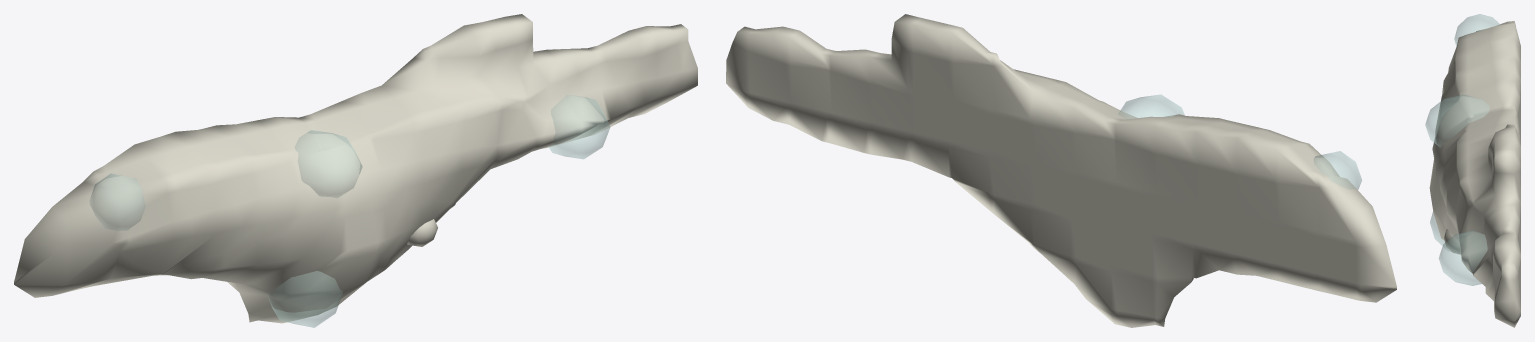
The model's file is SM_SpongeWakeFoam.obj.
3 views of the same model, side by side, from view 1: azimuth 30°, elevation 25°; view 2: azimuth 150°, elevation 25°; view 3: azimuth 270°, elevation 25° (orthographic). The views are drawn at different scales.
Visible parts, largest first — view 1: SM_SpongeWakeFoam; view 2: SM_SpongeWakeFoam; view 3: SM_SpongeWakeFoam.
Boxes of the visible parts, x1=… form: SM_SpongeWakeFoam: x1=14, y1=14, x2=697, y2=327; SM_SpongeWakeFoam: x1=726, y1=14, x2=1396, y2=327; SM_SpongeWakeFoam: x1=1425, y1=14, x2=1520, y2=327.
Bounding box in the file's own units: 60.96 × 21.81 × 8.53.
